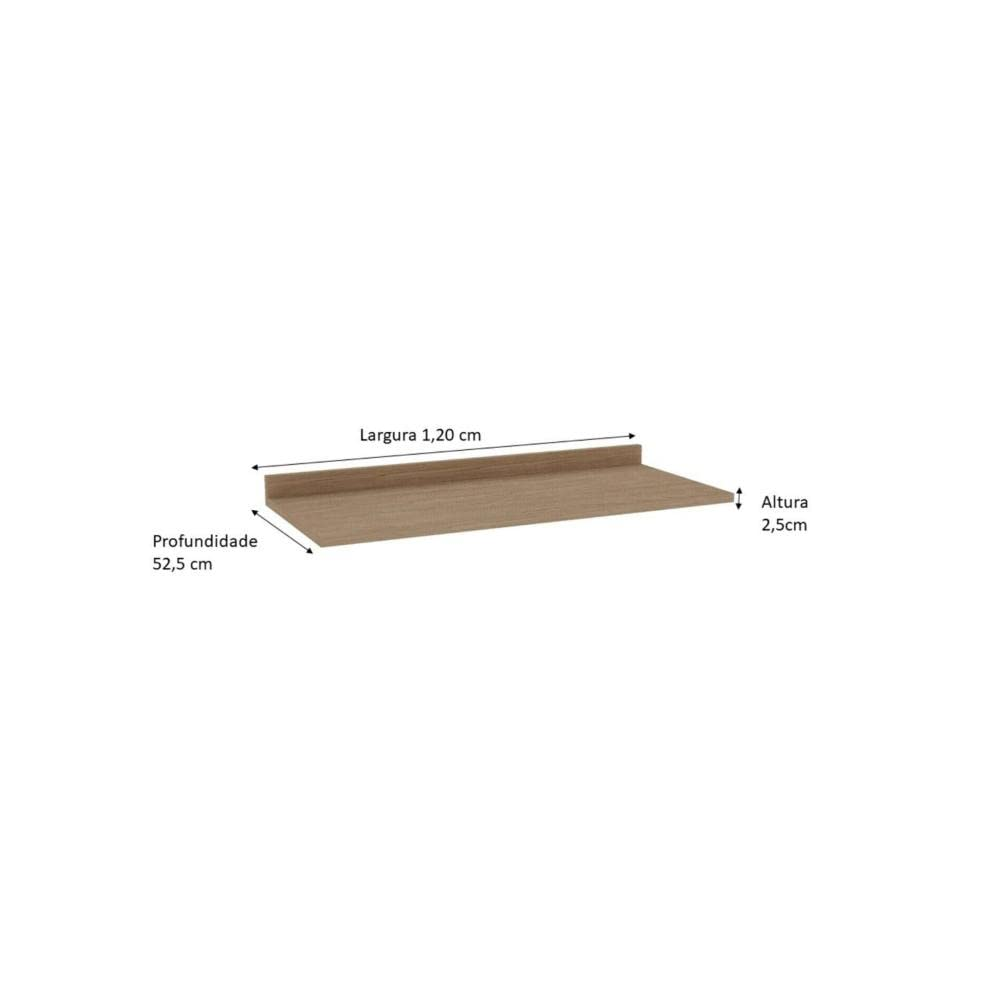52,5: (153, 557, 185, 572)
Profundidade: (154, 534, 258, 547)
cm: (190, 561, 212, 570)
